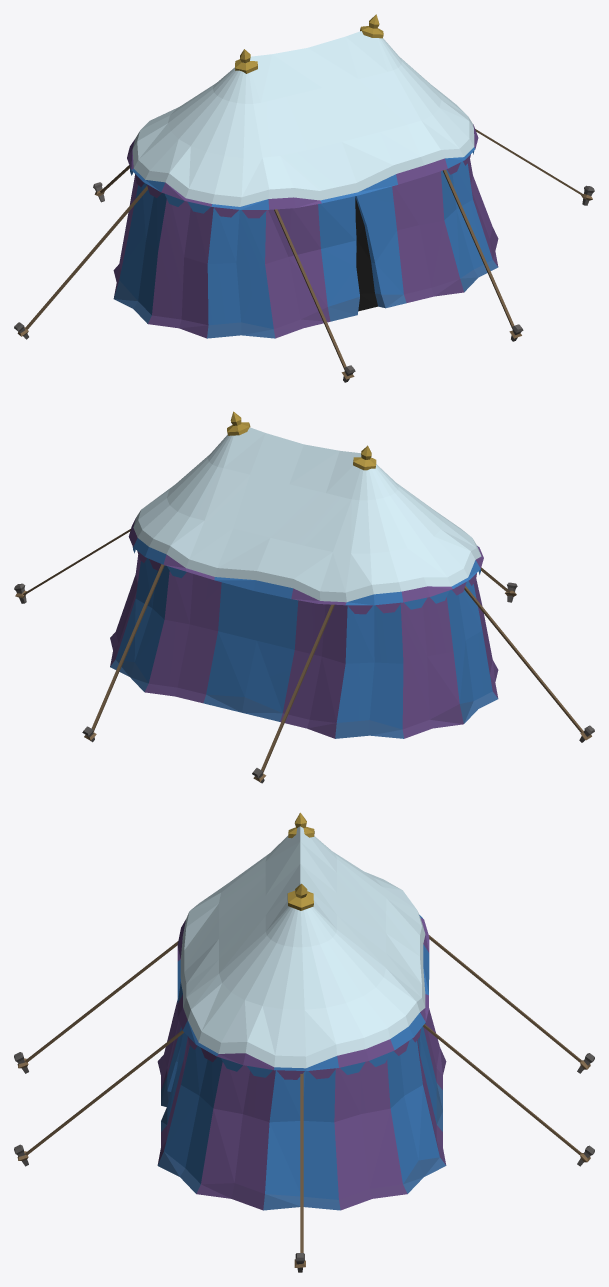
The model's file is SM_Bld_Tent_02_Snow.gltf.
3 views of the same model, one above another, from view 1: azimuth 30°, elevation 25°; view 2: azimuth 150°, elevation 25°; view 3: azimuth 270°, elevation 25° (orthographic). The views are drawn at different scales.
Parts seen in each view (by area): view 1: SM_Bld_Tent_02_Snow; view 2: SM_Bld_Tent_02_Snow; view 3: SM_Bld_Tent_02_Snow.
Part boxes in pixels (box(x1,y1,x2,y2)): SM_Bld_Tent_02_Snow: box(14, 14, 594, 382); SM_Bld_Tent_02_Snow: box(14, 411, 594, 783); SM_Bld_Tent_02_Snow: box(14, 812, 594, 1272).
Bounding box in the file's own units: 11.48 × 4.62 × 8.89.
1 material, 1 textured.
